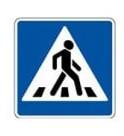road_sign: (13, 15, 116, 120)
